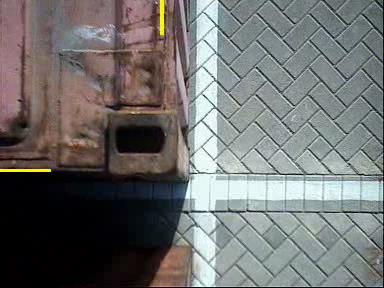groundmarker_2: (139, 81, 265, 165)
